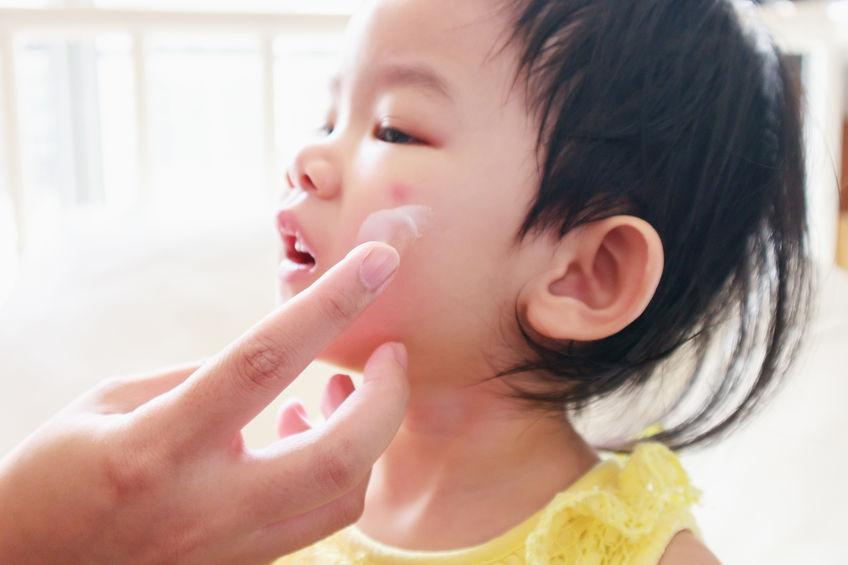Gnat-bites: (386, 176, 423, 219)
